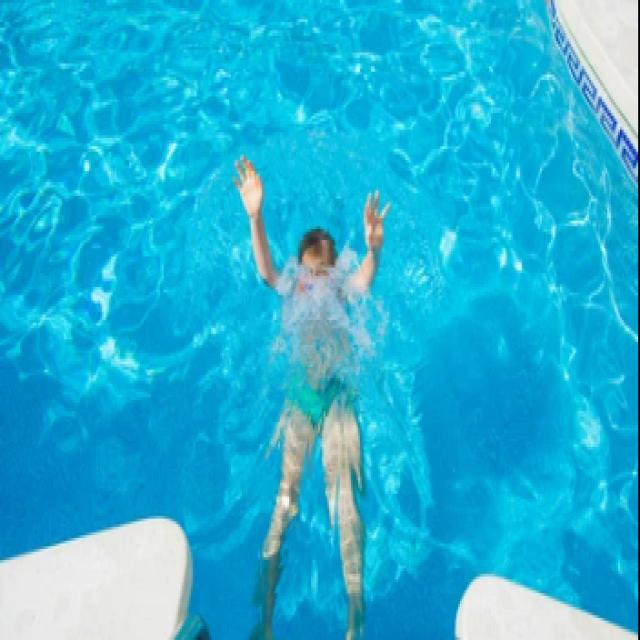Drowning: (234, 160, 384, 640)
